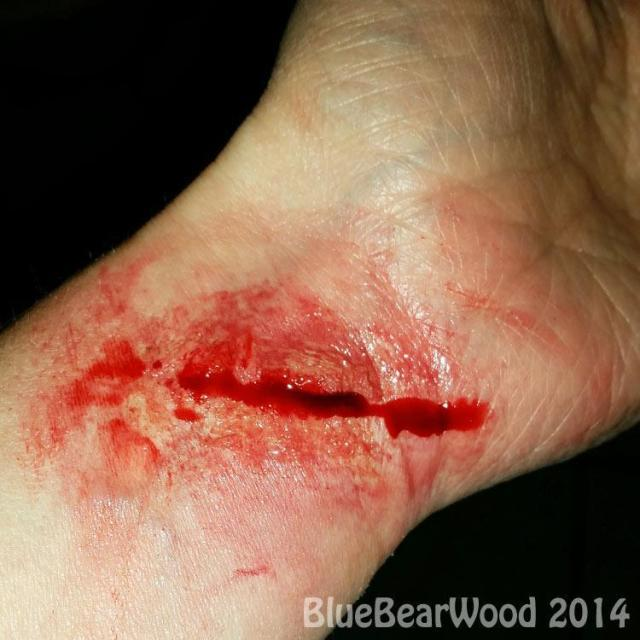flood: (32, 280, 504, 496)
